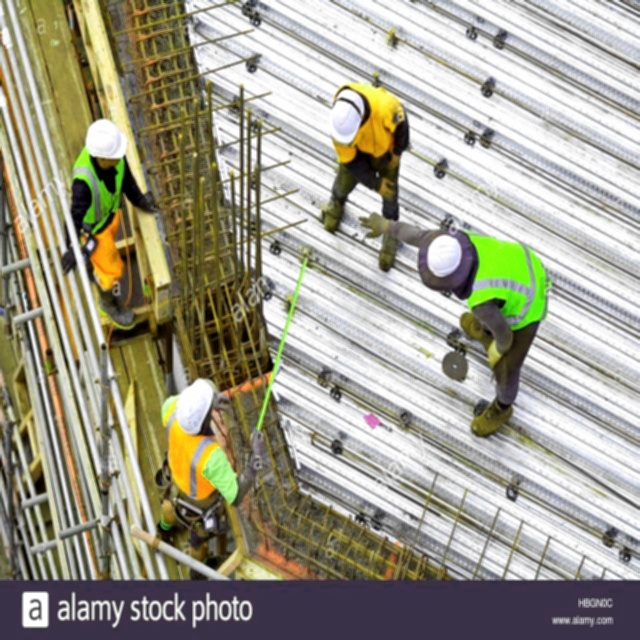Con_Casco: (329, 88, 365, 148), (86, 118, 127, 169), (178, 379, 214, 435)
Con_Chaleco: (468, 227, 548, 332)
